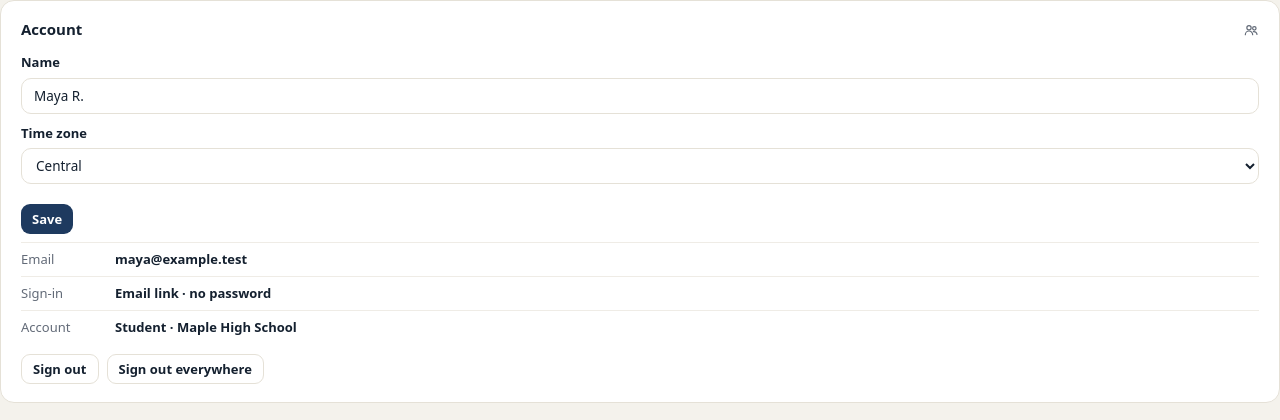
Scenario: AccountCard › saves the display name and time zone
The width and height of the screenshot is (1280, 420).
Replace the text in the field labelled "Name" with "Maya Rivera": (640, 96) [21,78,1259,114]
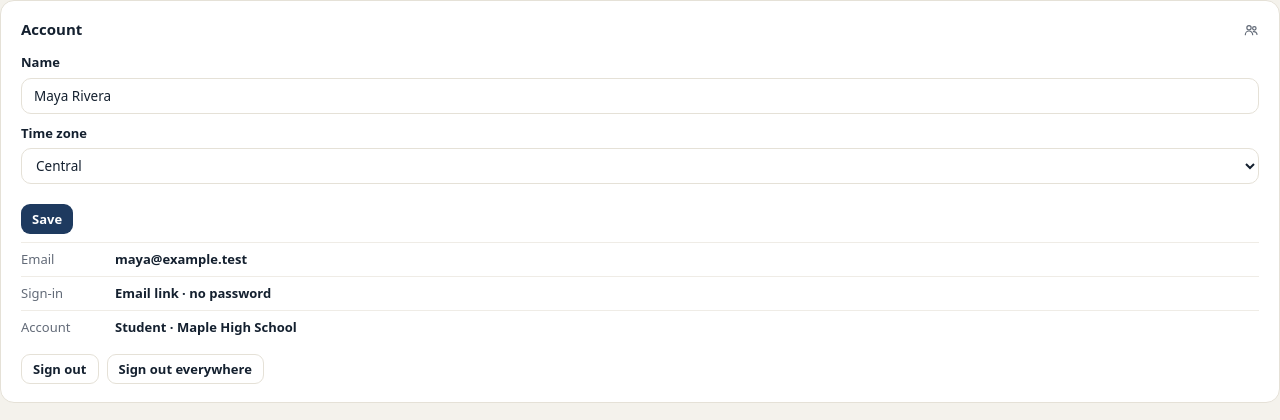
Select "Mountain" in the dropdown labelled "Time zone": (640, 166) [21,148,1259,184]
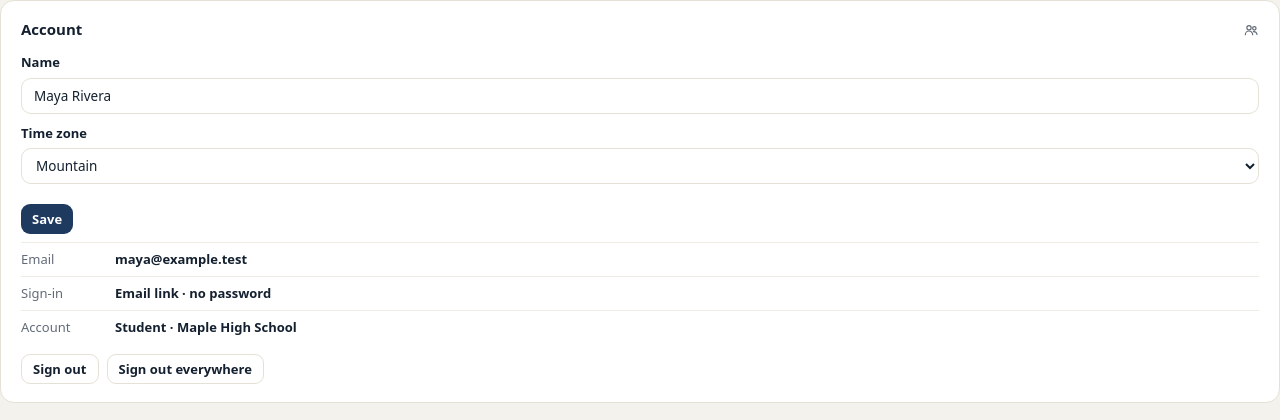
Click the button "Save": click(47, 219) [21,204,73,234]
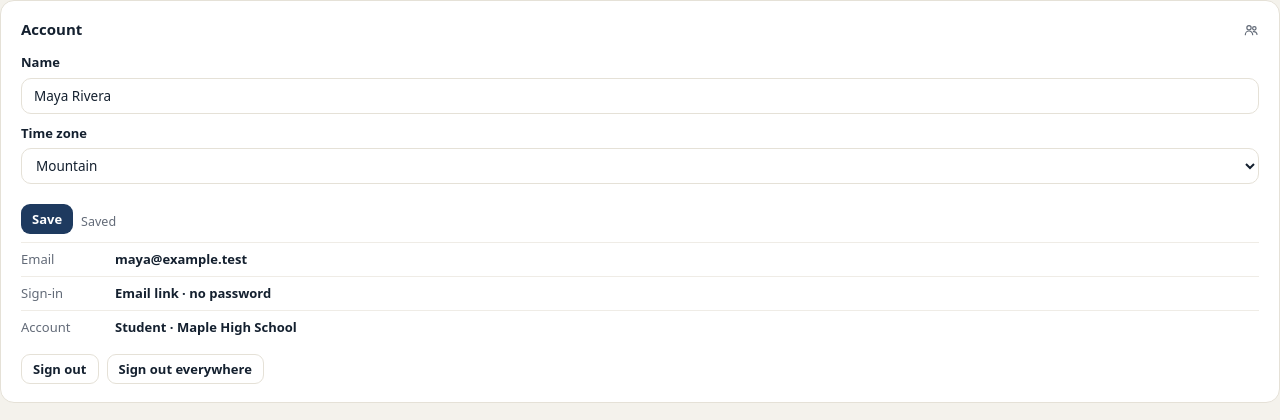
expect the text "Saved" is shown: met, box [81,213,116,232]
